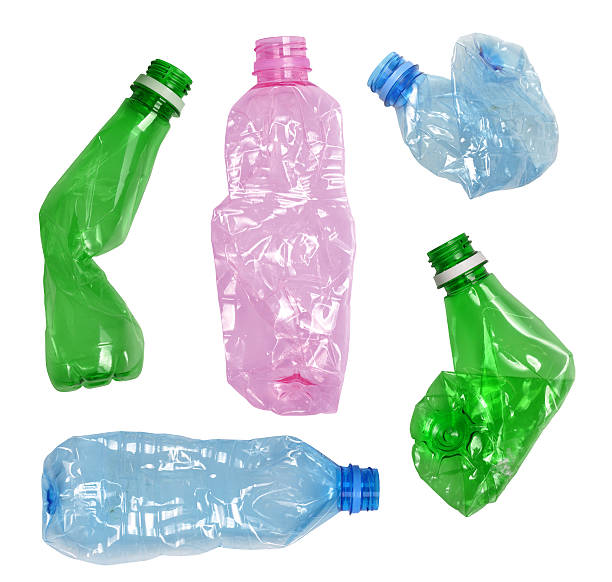plastic_bottle: (209, 36, 354, 416), (33, 59, 195, 392), (410, 233, 576, 517), (43, 430, 381, 565), (368, 32, 557, 201)
